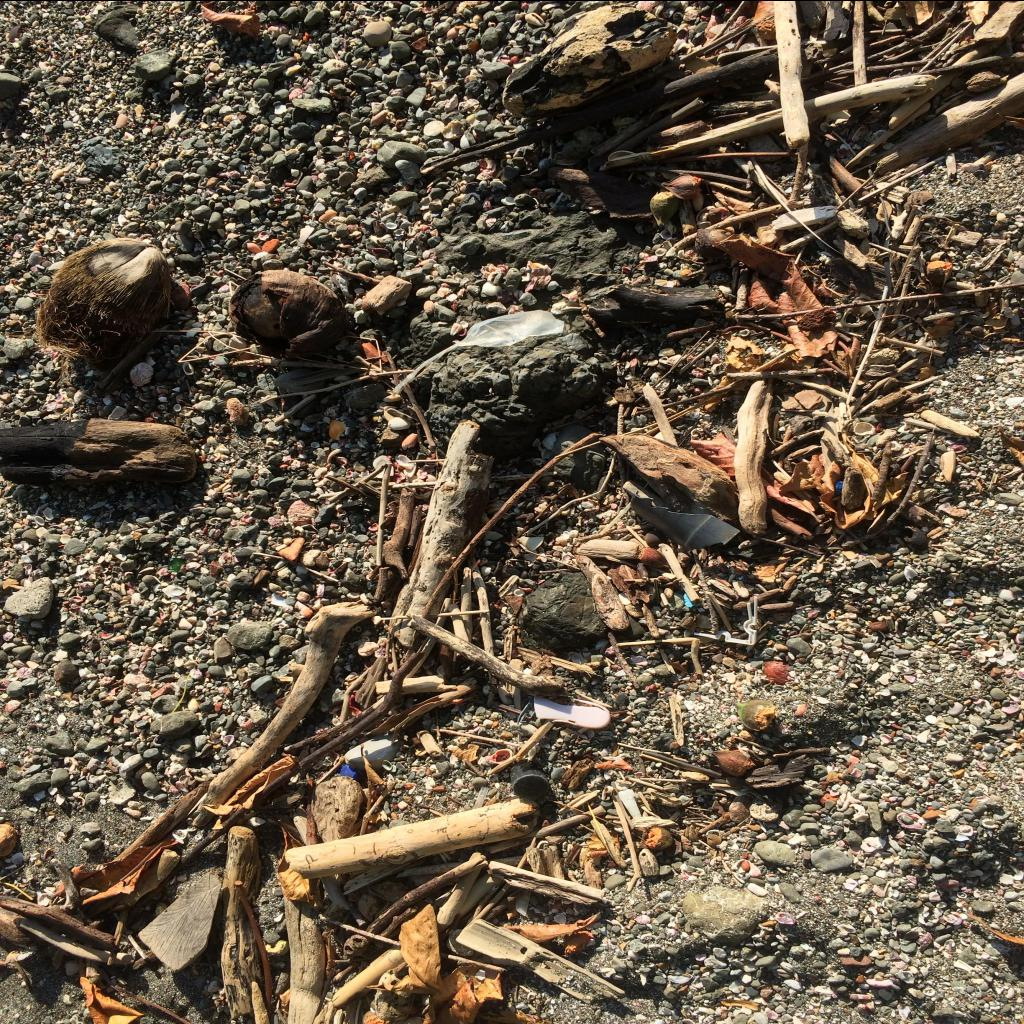Other plastic bottle: (630, 490, 740, 552), (694, 594, 757, 644), (534, 692, 612, 728), (618, 788, 642, 817), (682, 592, 694, 606)
Plastic film: (392, 309, 564, 393)
Unlabeled litter: (510, 761, 549, 798)
